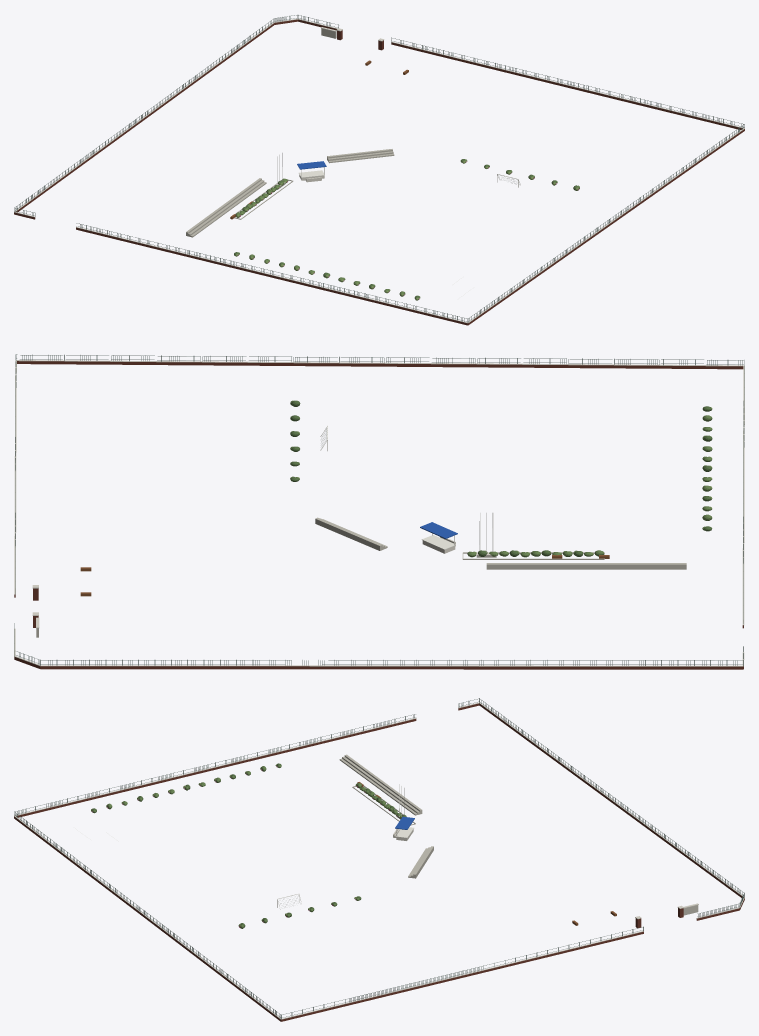
3 views of the same model, one above another, from view 1: azimuth 30°, elevation 25°; view 2: azimuth 150°, elevation 25°; view 3: azimuth 270°, elevation 25° (orthographic). The views are drawn at different scales.
Parts seen in each view (by area): view 1: prop_boundary-fence, prop_field-stands, prop_flowerbeds; view 2: prop_boundary-fence, prop_field-stands, prop_flowerbeds, prop_assembly-podium; view 3: prop_boundary-fence, prop_field-stands, prop_flowerbeds.
Part boxes in pixels (left/top/right/bottom): prop_boundary-fence: left=14, top=15, right=744, bottom=325; prop_field-stands: left=186, top=149, right=394, bottom=237; prop_flowerbeds: left=234, top=159, right=579, bottom=300; prop_boundary-fence: left=14, top=354, right=744, bottom=669; prop_field-stands: left=315, top=517, right=686, bottom=569; prop_flowerbeds: left=290, top=400, right=712, bottom=559; prop_assembly-podium: left=420, top=522, right=457, bottom=553; prop_boundary-fence: left=14, top=698, right=744, bottom=1021; prop_field-stands: left=339, top=754, right=433, bottom=878; prop_flowerbeds: left=91, top=763, right=415, bottom=928.
Bounding box in the file's own units: 169 × 8.2 × 164.
